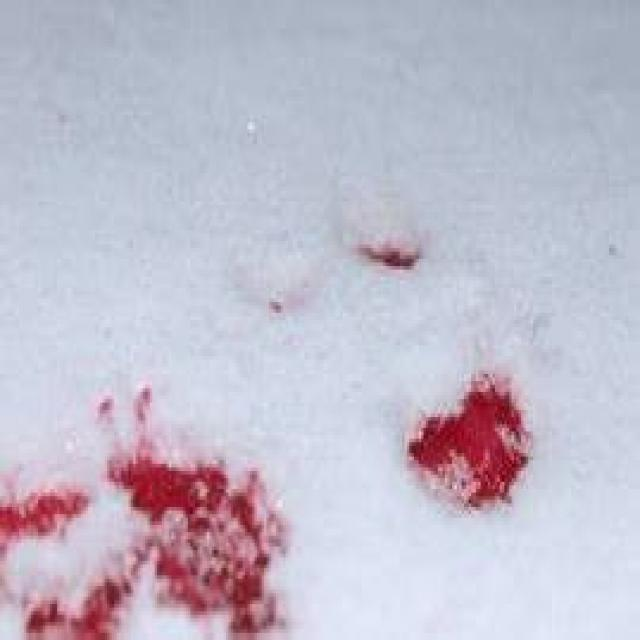wound: (0, 380, 289, 640), (388, 343, 558, 529)
